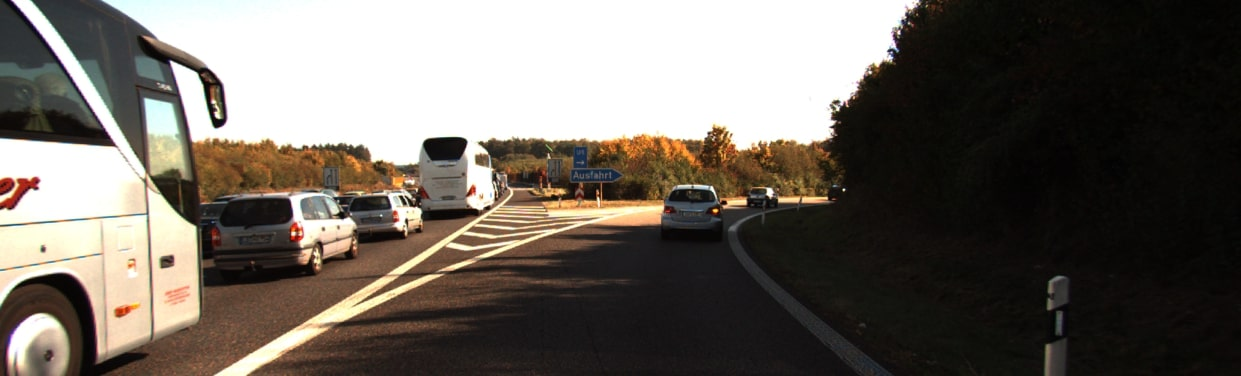car: (1, 6, 231, 355), (213, 185, 368, 279), (415, 140, 510, 208), (654, 179, 738, 245), (354, 190, 424, 242), (741, 185, 778, 209)
